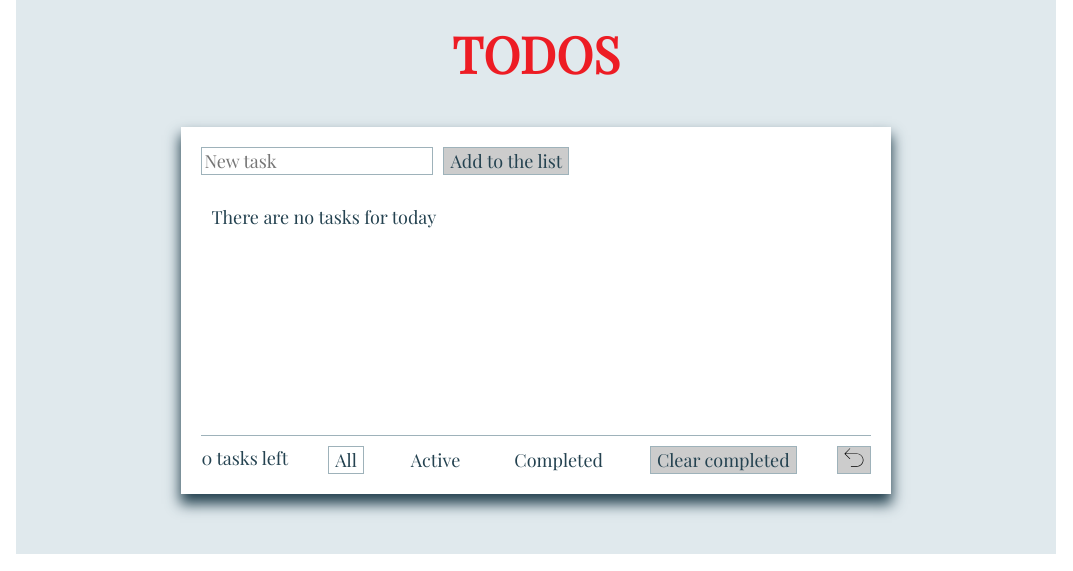
Scenario: отмена последнего действия
Type "Задача" into the field with placeholder "New task" at (317, 161), box [201,147,433,175]
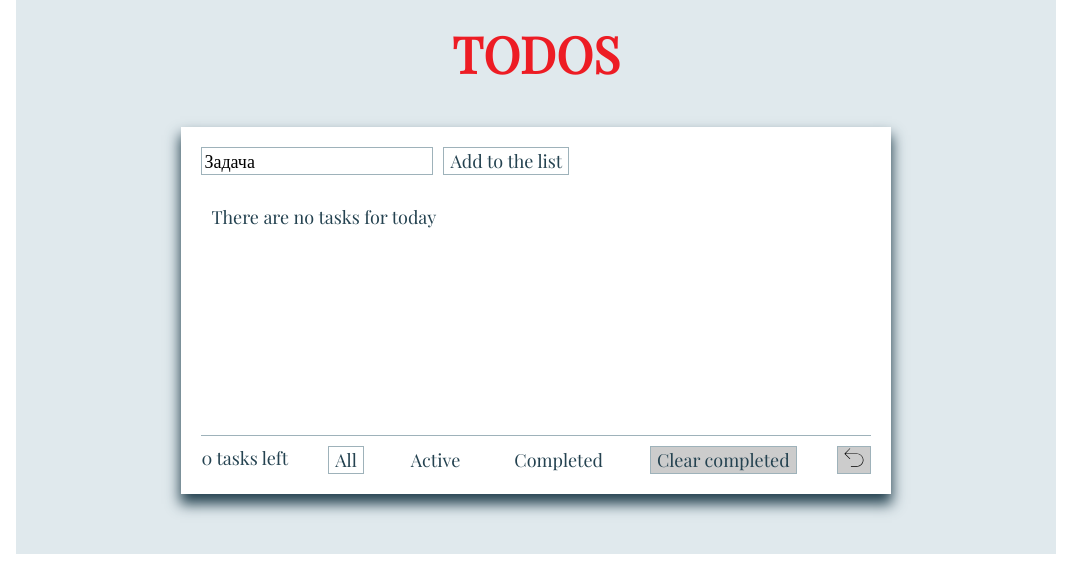
Click the button "Add to the list" at (506, 161), box [443,147,569,175]
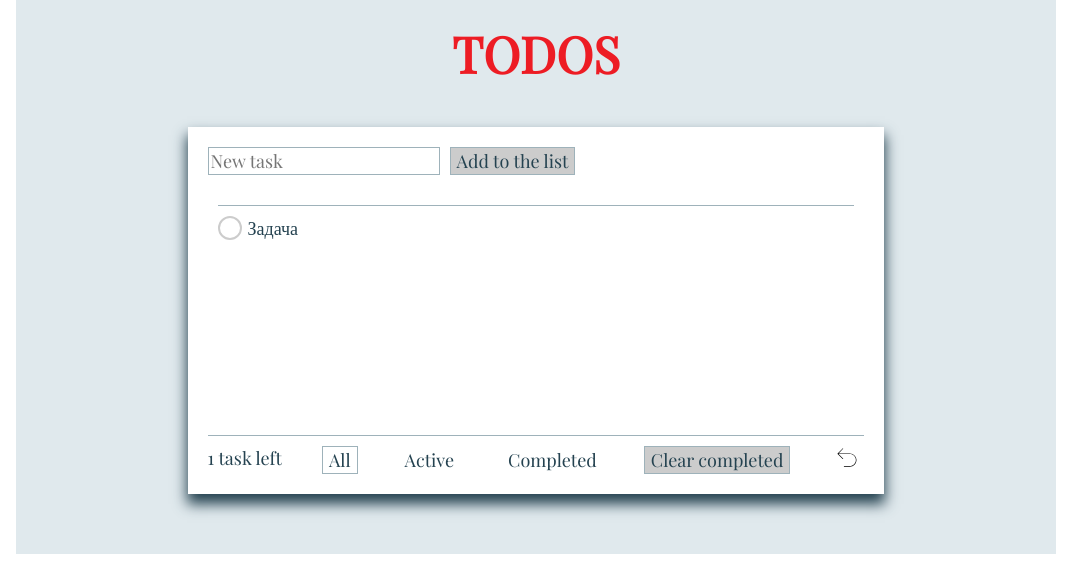
Click the button named "Назад" at (847, 460), box [830,446,864,474]
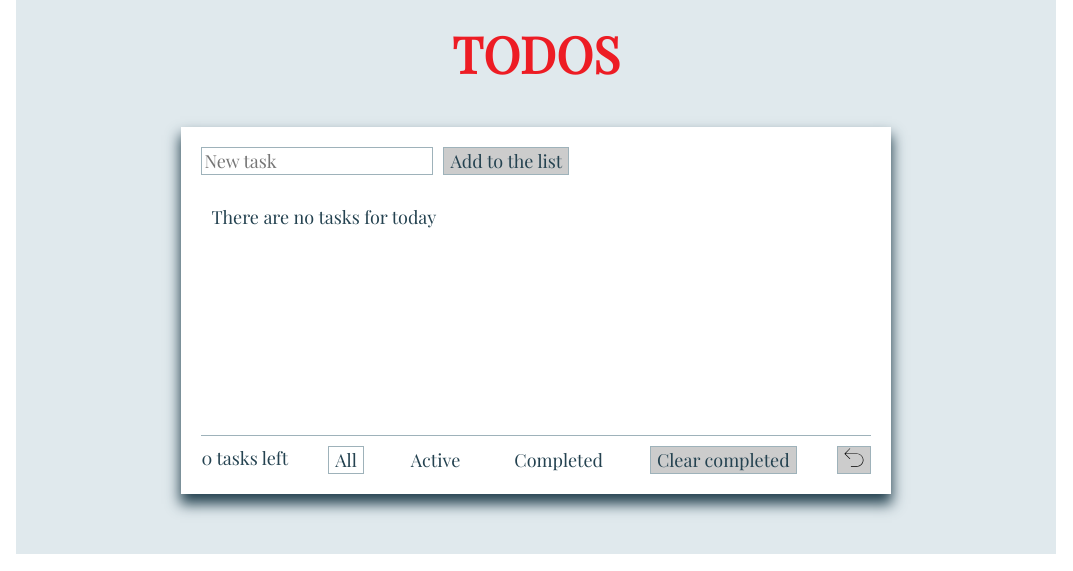
Result: the checkbox "Задача" is gone
